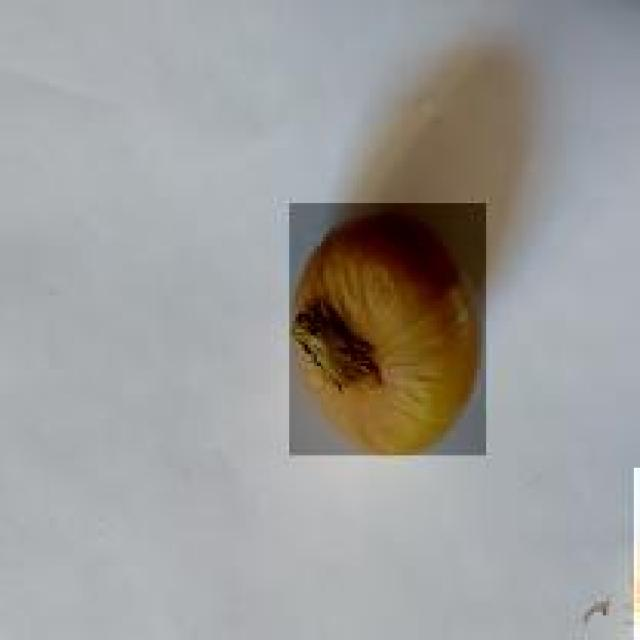onion: (286, 203, 486, 459)
